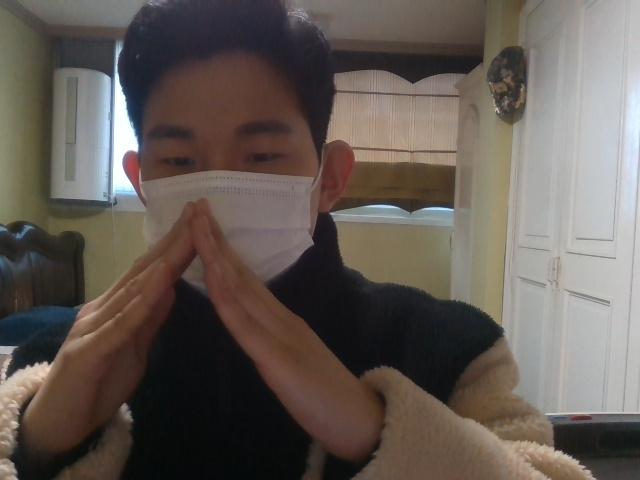HOME: (24, 197, 374, 451)
